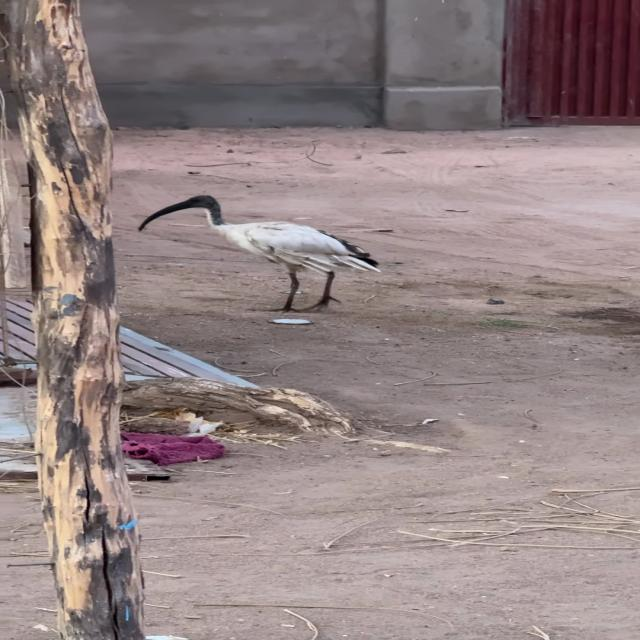Birds-Ibis: (133, 191, 384, 315)
